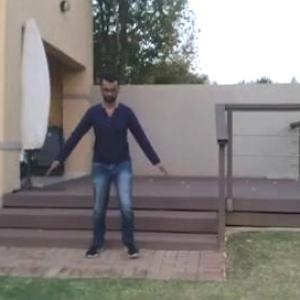land: (43, 74, 160, 266)
